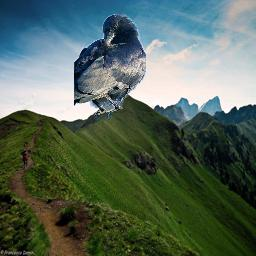Crow: (74, 14, 146, 120)
